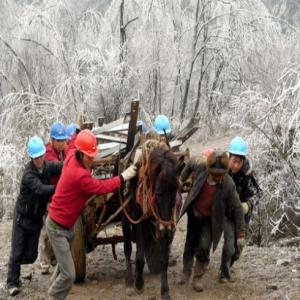blue: (227, 137, 248, 174), (26, 138, 47, 169), (49, 123, 68, 153), (155, 115, 171, 143)
red: (76, 129, 98, 170)
